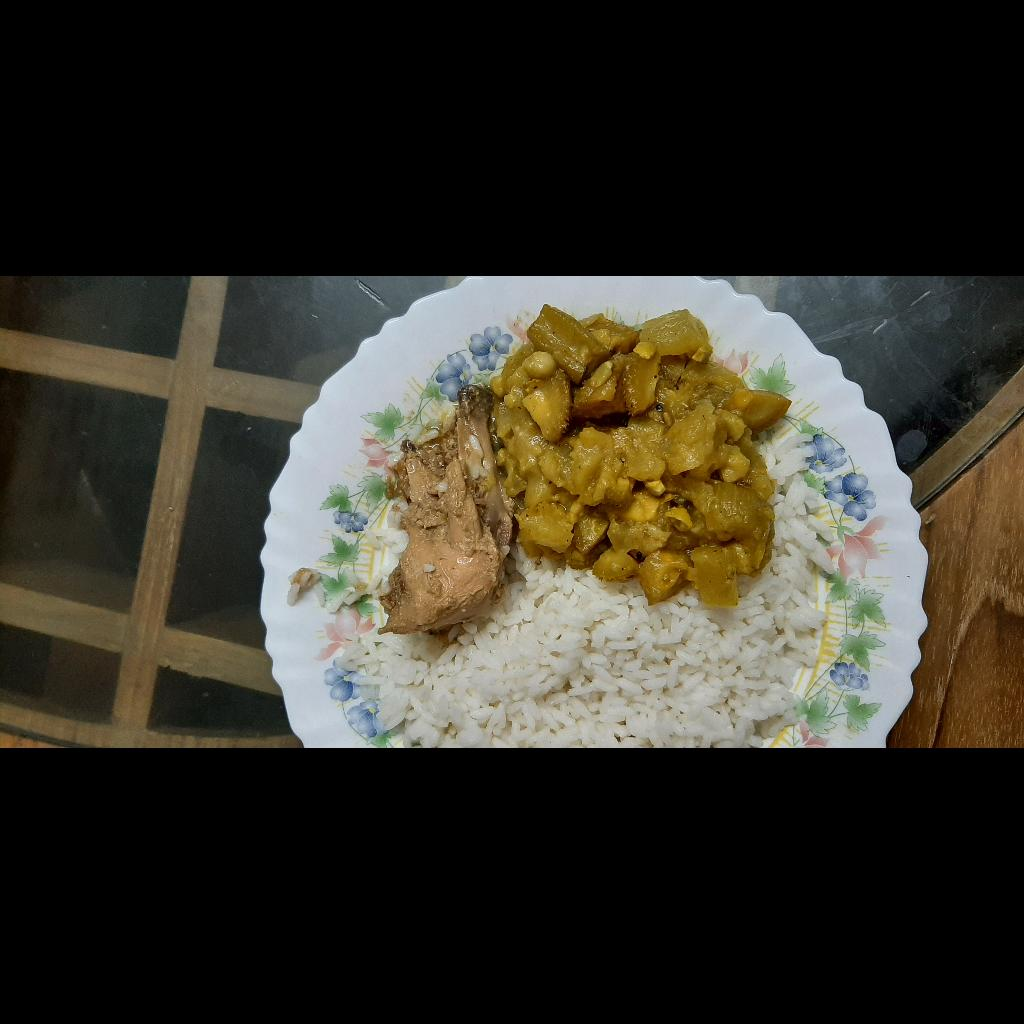chicken: (110, 648, 366, 783)
dundol: (140, 764, 439, 1024)
rice: (0, 564, 221, 1024)
